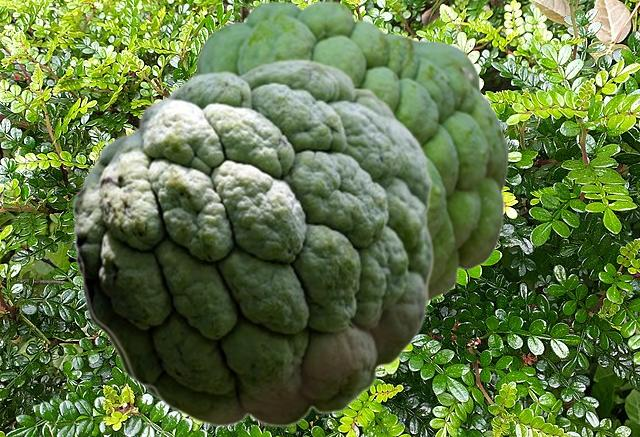atis: (71, 58, 434, 427), (188, 0, 508, 305)
